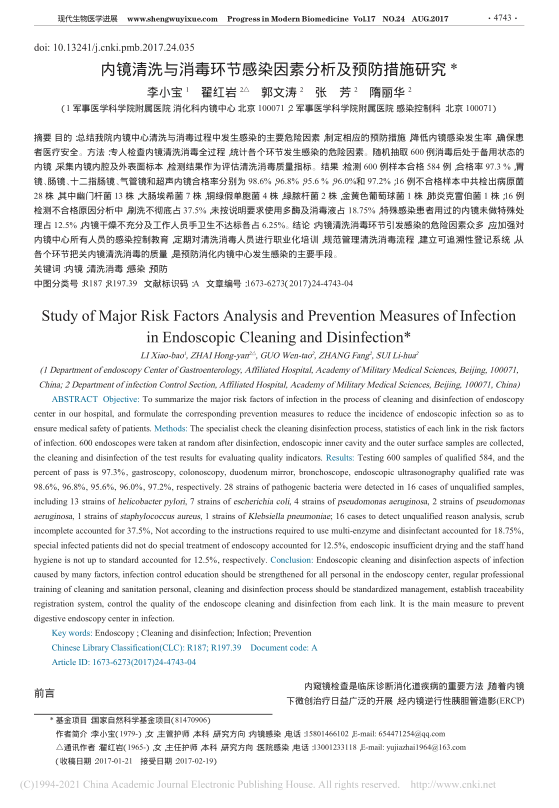Header: (226, 15, 449, 23), (127, 15, 219, 24), (57, 13, 118, 23), (486, 12, 518, 22)
Reference: (47, 715, 507, 767)
Text: (32, 395, 524, 667), (32, 131, 526, 291), (40, 349, 521, 390), (58, 84, 497, 116), (286, 680, 523, 708), (34, 42, 193, 53)
Title: (40, 305, 516, 345), (97, 60, 460, 79), (34, 688, 55, 700)
